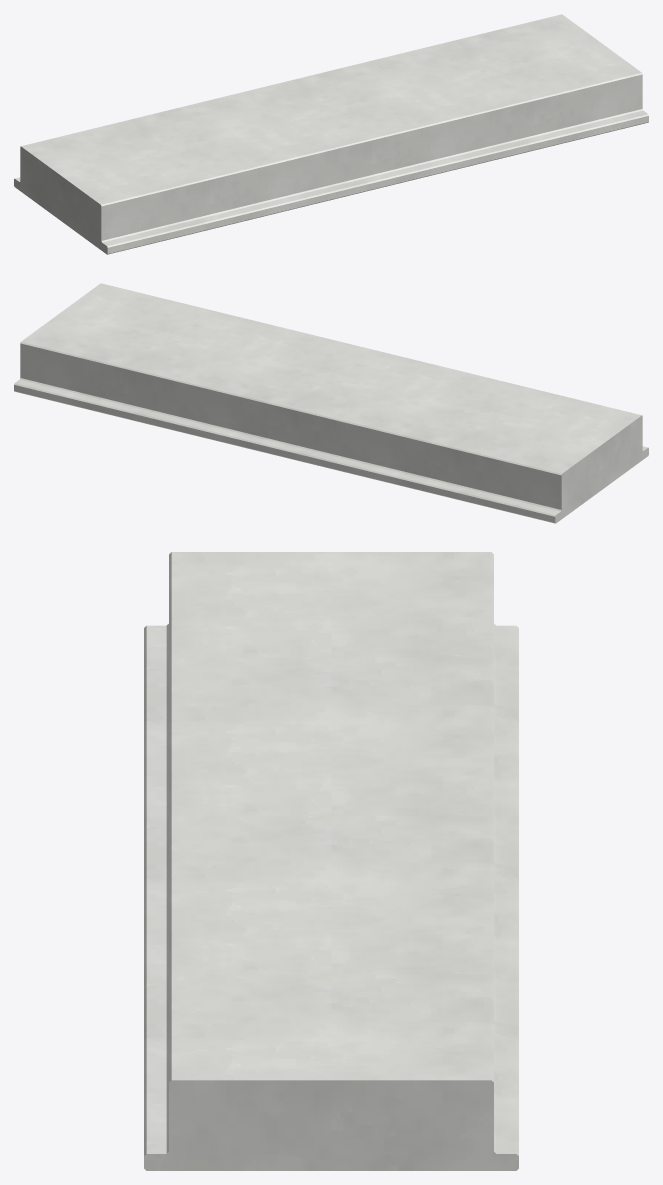
Rendered from EST-LAJ-003_lod1.glb.
3 views of the same model, one above another, from view 1: azimuth 30°, elevation 25°; view 2: azimuth 150°, elevation 25°; view 3: azimuth 270°, elevation 25° (orthographic). The views are drawn at different scales.
Visible parts, largest first — view 1: EST-LAJ-003_eps; view 2: EST-LAJ-003_eps; view 3: EST-LAJ-003_eps.
Boxes of the visible parts, <box> form: EST-LAJ-003_eps: <box>14,14,648,254</box>; EST-LAJ-003_eps: <box>14,283,648,523</box>; EST-LAJ-003_eps: <box>144,552,518,1170</box>.
Bounding box in the file's own units: 1 × 0.08 × 0.3.
Materials: 1 (1 with a texture image).
